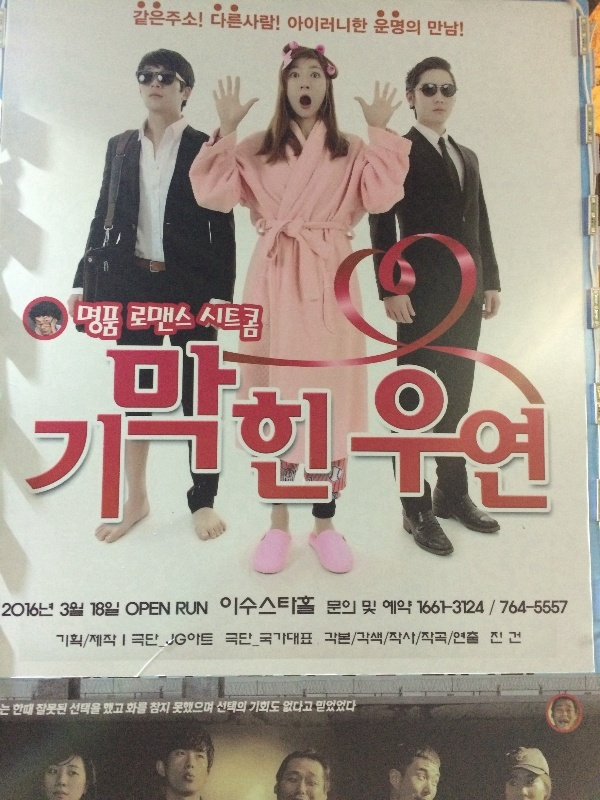text: (33, 338, 48, 528), (49, 338, 64, 528), (65, 338, 80, 528), (81, 338, 96, 528), (97, 338, 112, 528), (113, 338, 128, 528), (129, 338, 144, 528), (145, 338, 160, 528), (161, 338, 176, 528), (177, 338, 192, 528), (193, 338, 208, 528), (209, 338, 224, 528), (225, 338, 240, 528), (241, 338, 256, 528), (257, 338, 272, 528), (273, 338, 288, 528), (289, 338, 304, 528), (305, 338, 320, 528), (321, 338, 336, 528), (337, 338, 352, 528), (353, 338, 368, 528), (369, 338, 384, 528), (385, 338, 400, 528), (401, 338, 416, 528), (417, 338, 432, 528), (433, 338, 448, 528), (449, 338, 464, 528), (465, 338, 480, 528), (481, 338, 496, 528), (497, 338, 512, 528), (513, 338, 528, 528), (529, 338, 544, 528), (545, 338, 552, 528), (209, 306, 224, 341), (225, 306, 240, 341), (241, 306, 256, 341), (81, 304, 96, 338), (97, 304, 112, 338), (177, 305, 193, 334), (145, 305, 160, 334), (161, 305, 176, 334), (131, 305, 144, 334), (225, 11, 240, 33), (241, 11, 256, 33), (257, 11, 272, 33), (225, 595, 240, 616), (241, 595, 256, 616), (257, 595, 272, 616), (273, 595, 288, 616), (289, 595, 304, 616), (145, 8, 160, 29), (161, 8, 176, 29), (177, 8, 192, 29), (385, 17, 400, 37), (401, 17, 416, 37), (289, 15, 304, 34), (305, 15, 320, 34), (321, 15, 336, 34), (337, 15, 352, 34), (353, 15, 368, 34), (433, 20, 448, 38), (449, 20, 464, 38), (212, 11, 224, 33), (417, 599, 432, 616), (433, 599, 448, 616), (449, 599, 464, 616), (465, 599, 480, 616), (481, 599, 496, 616), (129, 601, 144, 618), (145, 601, 160, 618), (65, 634, 80, 650), (81, 634, 96, 650), (97, 634, 112, 650), (385, 600, 400, 616), (177, 601, 192, 617), (193, 601, 208, 617), (97, 601, 112, 617), (65, 602, 80, 618), (17, 602, 32, 618), (33, 602, 48, 618), (337, 630, 352, 646), (353, 630, 368, 646), (369, 630, 384, 646), (385, 630, 400, 646), (401, 630, 416, 646), (417, 630, 432, 646), (433, 630, 448, 646), (449, 630, 464, 646), (113, 304, 120, 338), (81, 702, 96, 717), (129, 702, 144, 717), (289, 700, 304, 715), (321, 700, 336, 715), (337, 700, 352, 715), (193, 633, 208, 648), (513, 600, 528, 615), (529, 600, 544, 615), (545, 600, 560, 615), (337, 600, 352, 615), (2, 602, 16, 618), (465, 630, 479, 646), (17, 703, 32, 717), (49, 703, 64, 717), (177, 702, 192, 716), (193, 702, 208, 716), (225, 701, 240, 715), (257, 701, 272, 715), (145, 633, 159, 648), (497, 631, 512, 645), (305, 595, 315, 616), (134, 8, 144, 29), (193, 8, 203, 29), (374, 17, 384, 37), (226, 633, 240, 647), (273, 633, 288, 646), (289, 633, 304, 646), (401, 600, 413, 616), (31, 338, 32, 528), (132, 633, 144, 648), (500, 600, 512, 615), (325, 630, 336, 646), (161, 601, 171, 618), (36, 703, 48, 717), (113, 702, 125, 716), (241, 633, 253, 647), (260, 633, 272, 646), (273, 11, 280, 33), (150, 702, 160, 717), (161, 702, 171, 717), (204, 306, 208, 341), (167, 633, 176, 648), (177, 633, 186, 648), (327, 600, 336, 615), (56, 634, 64, 650), (72, 702, 80, 717), (305, 700, 313, 715), (369, 600, 376, 617), (104, 702, 112, 716), (273, 701, 281, 715), (513, 631, 521, 645), (113, 601, 120, 617), (561, 600, 568, 615), (257, 306, 260, 341), (305, 633, 313, 646), (362, 600, 368, 617), (77, 304, 80, 338), (241, 701, 248, 715), (90, 601, 96, 617), (209, 702, 215, 716), (218, 701, 224, 715), (250, 701, 256, 715), (490, 631, 496, 645), (220, 595, 224, 616), (49, 602, 54, 618), (417, 17, 421, 37), (97, 702, 102, 717), (283, 700, 288, 715), (187, 633, 192, 648), (428, 20, 432, 38), (113, 634, 117, 650), (145, 702, 149, 717), (316, 700, 320, 715), (353, 700, 357, 715), (209, 633, 213, 648), (61, 602, 64, 618), (81, 602, 84, 618), (353, 600, 356, 615), (13, 703, 16, 717), (65, 703, 68, 717), (126, 601, 128, 618), (33, 703, 35, 717), (174, 702, 176, 716), (383, 600, 384, 616), (127, 702, 128, 717)
